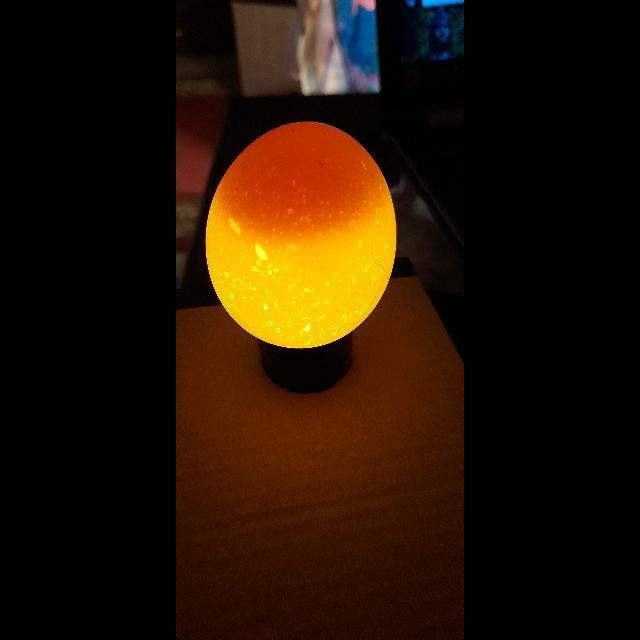Inedible: (192, 107, 408, 372)
